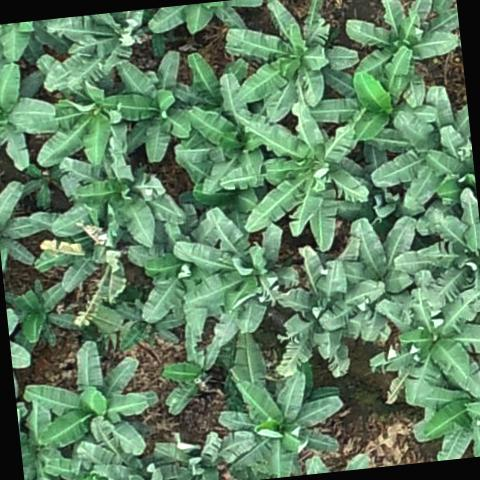Banana-plant: (233, 96, 374, 258), (267, 238, 397, 380), (219, 0, 366, 125), (18, 338, 158, 465), (174, 206, 306, 339), (216, 365, 344, 480), (365, 81, 477, 211), (343, 0, 466, 111), (124, 205, 228, 322), (71, 143, 184, 250), (386, 184, 480, 311), (393, 282, 480, 404), (186, 75, 270, 191), (112, 54, 194, 166), (38, 8, 150, 86), (28, 76, 122, 168), (344, 55, 437, 147), (338, 211, 422, 310), (406, 351, 480, 463), (0, 64, 57, 173), (422, 104, 477, 206), (149, 427, 253, 480), (12, 274, 80, 348), (0, 176, 51, 270), (18, 417, 73, 480)
